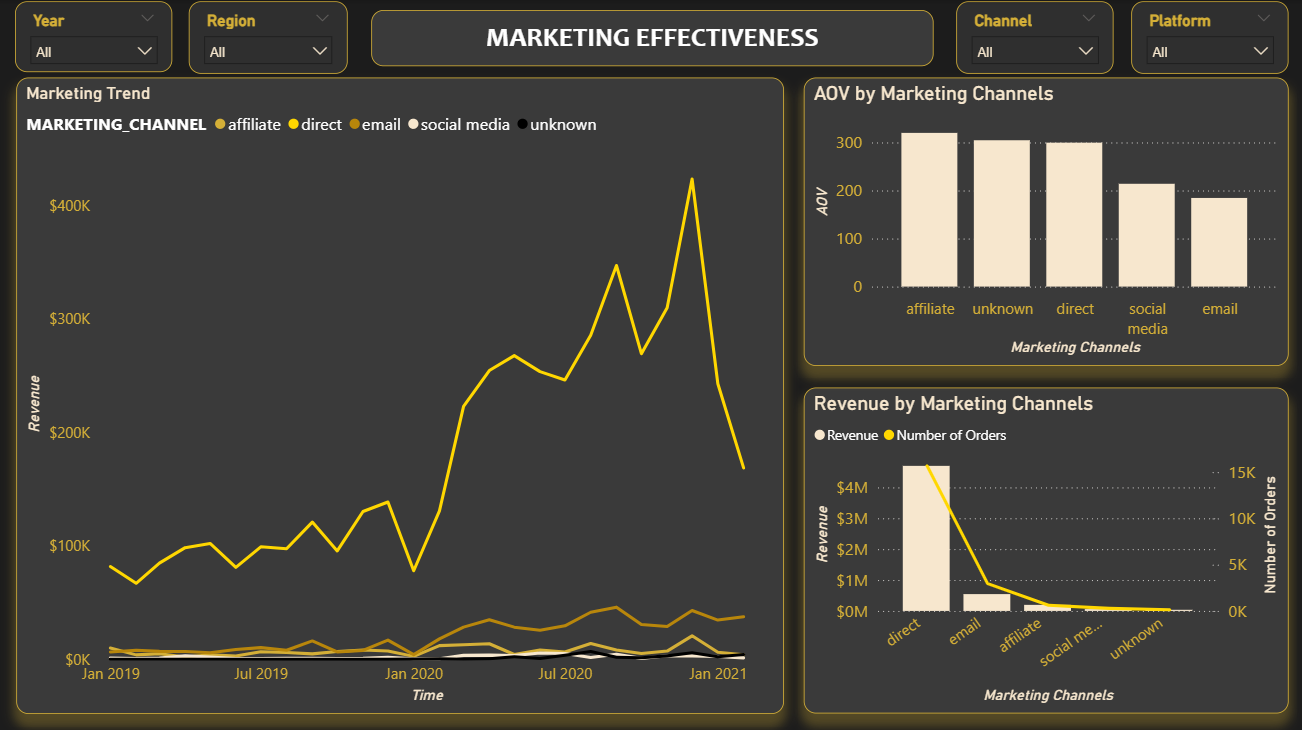

This screenshot's page, from the dashboard's own definition file:
{"tool":"powerbi","page":{"name":"Marketing","canvas":[1280,720],"ordinal":3},"visuals":[{"type":"textbox","box":[364.4,9.8,552.2,55.2],"z":0},{"type":"lineStackedColumnComboChart","title":"Revenue by Marketing Channels","fields":{"Category":["orders.MARKETING_CHANNEL"],"Y":["Sum(orders.USD_PRICE)"],"Y2":["Count(orders.ORDER_ID)"]},"box":[789,380.4,476.1,320.2],"z":1000},{"type":"columnChart","title":"AOV by Marketing Channels","fields":{"Category":["orders.MARKETING_CHANNEL"],"Y":["orders.AOV"]},"box":[789,76.1,476.1,283.4],"z":2000},{"type":"lineChart","title":"Marketing Trend","fields":{"Category":["Date Table.Year-Month"],"Y":["Sum(orders.USD_PRICE)"],"Series":["orders.MARKETING_CHANNEL"]},"box":[16,76.1,753.4,624.5],"z":3000},{"type":"slicer","fields":{"Values":["Date Table.Year"]},"box":[15.3,1.4,154.4,69.6],"z":4000},{"type":"slicer","fields":{"Values":["region.REGION"]},"box":[185,1.4,155.8,71],"z":5000},{"type":"slicer","fields":{"Values":["orders.PURCHASE_PLATFORM"]},"box":[1110.3,1.4,154.4,71],"z":6000},{"type":"slicer","fields":{"Values":["orders.MARKETING_CHANNEL"]},"box":[939.1,1.4,154.4,71],"z":7000}]}

Visuals, with their boxes in screenshot pixels (x1, y1, x2, y2), scaled from the page's 1280x720 canvas onto the 1302x730 screenshot:
textbox: (371,10,932,66)
"Revenue by Marketing Channels" lineStackedColumnComboChart: (803,386,1287,710)
"AOV by Marketing Channels" columnChart: (803,77,1287,364)
"Marketing Trend" lineChart: (16,77,783,710)
slicer - Date Table.Year: (16,1,173,72)
slicer - region.REGION: (188,1,347,73)
slicer - orders.PURCHASE_PLATFORM: (1129,1,1286,73)
slicer - orders.MARKETING_CHANNEL: (955,1,1112,73)
